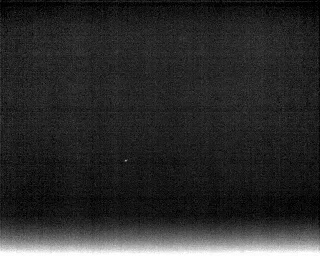AIRPLANE: (122, 156, 130, 165)
